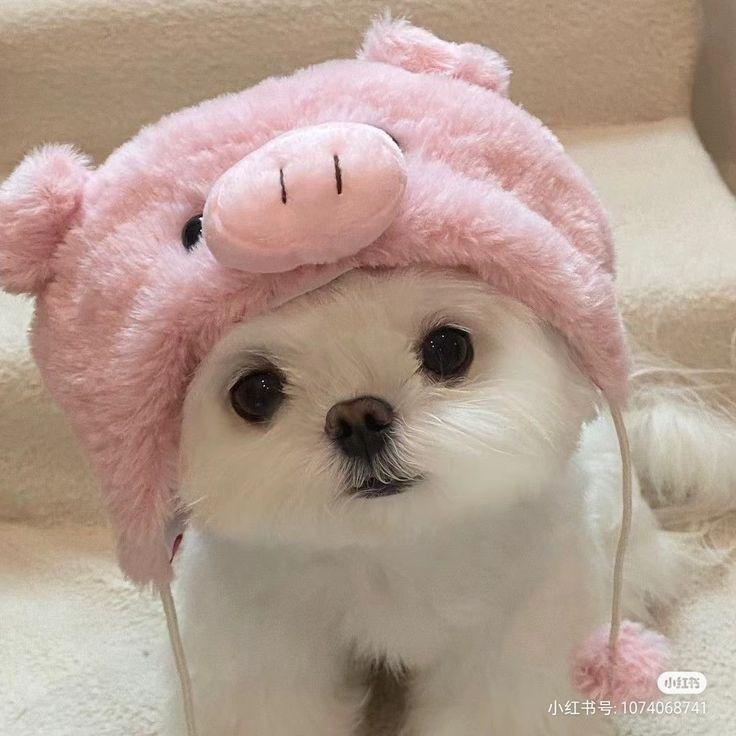puppy-dog: (0, 9, 736, 736)
